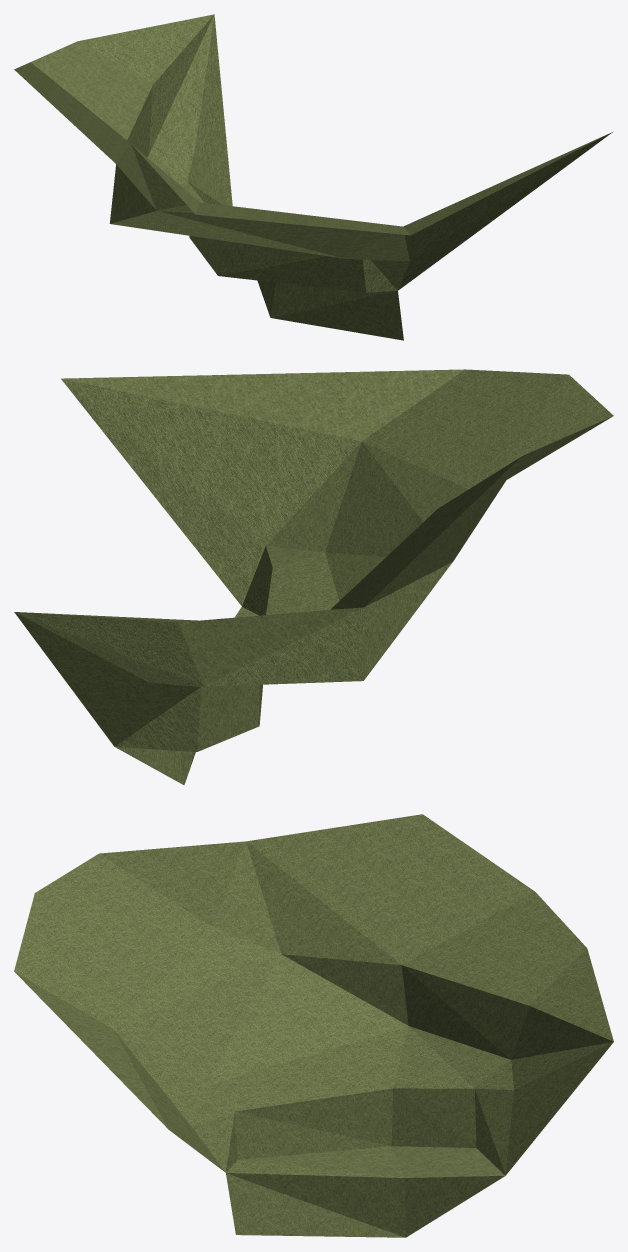
Rendered from des_cn2_detailbit2.obj.
3 views of the same model, one above another, from view 1: azimuth 30°, elevation 25°; view 2: azimuth 150°, elevation 25°; view 3: azimuth 270°, elevation 25° (orthographic). The views are drawn at different scales.
Visible parts, largest first — view 1: des_cn2_detailbit2; view 2: des_cn2_detailbit2; view 3: des_cn2_detailbit2.
Boxes of the visible parts, left/top/right/bottom form: des_cn2_detailbit2: left=14, top=14, right=613, bottom=340; des_cn2_detailbit2: left=14, top=369, right=613, bottom=784; des_cn2_detailbit2: left=14, top=814, right=613, bottom=1237.
Bounding box in the file's own units: 25.51 × 16.31 × 28.66.
1 material, 1 textured.
